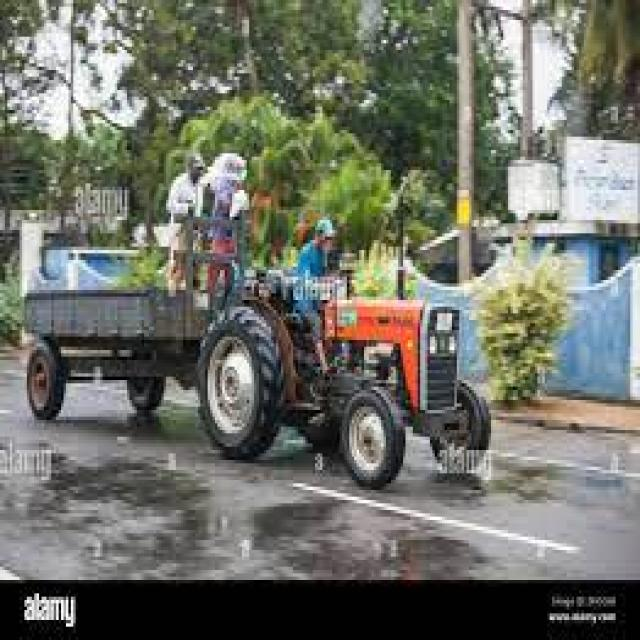person: (296, 220, 332, 373), (205, 153, 244, 293), (166, 153, 203, 260)
tractor: (27, 253, 489, 487)
